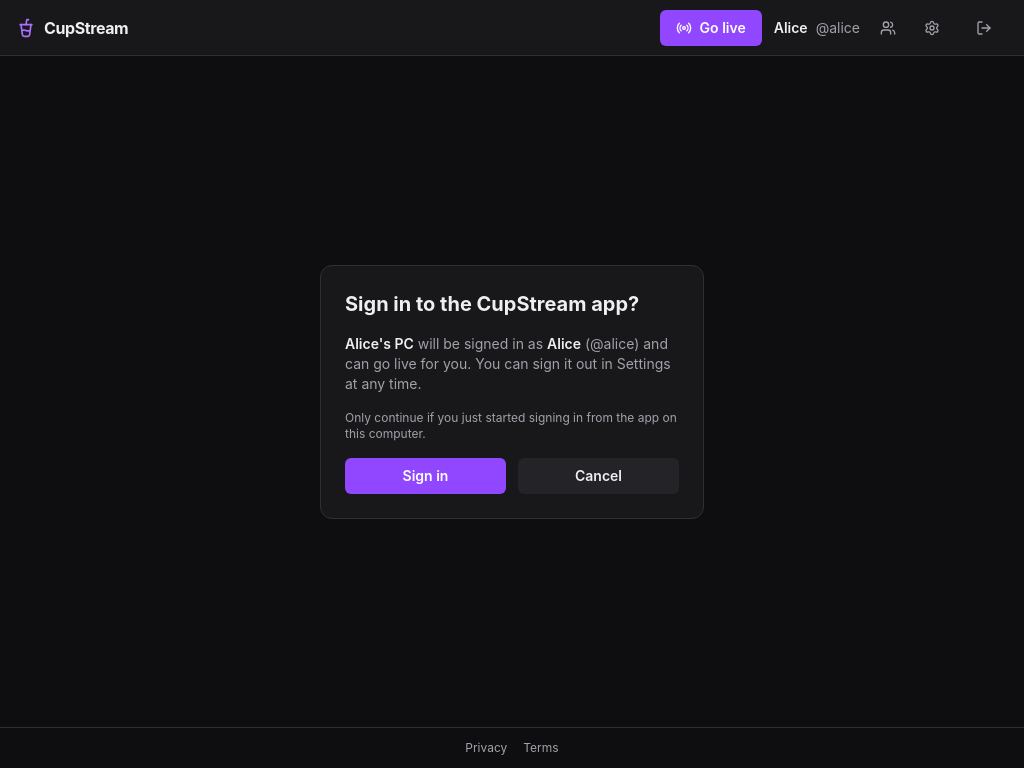
Scenario: approving sends the browser back to the app
Expected: the text "Alice's PC" is shown, [345,334,414,352]
Click the button "Sign in": (426, 476) [345,458,506,494]
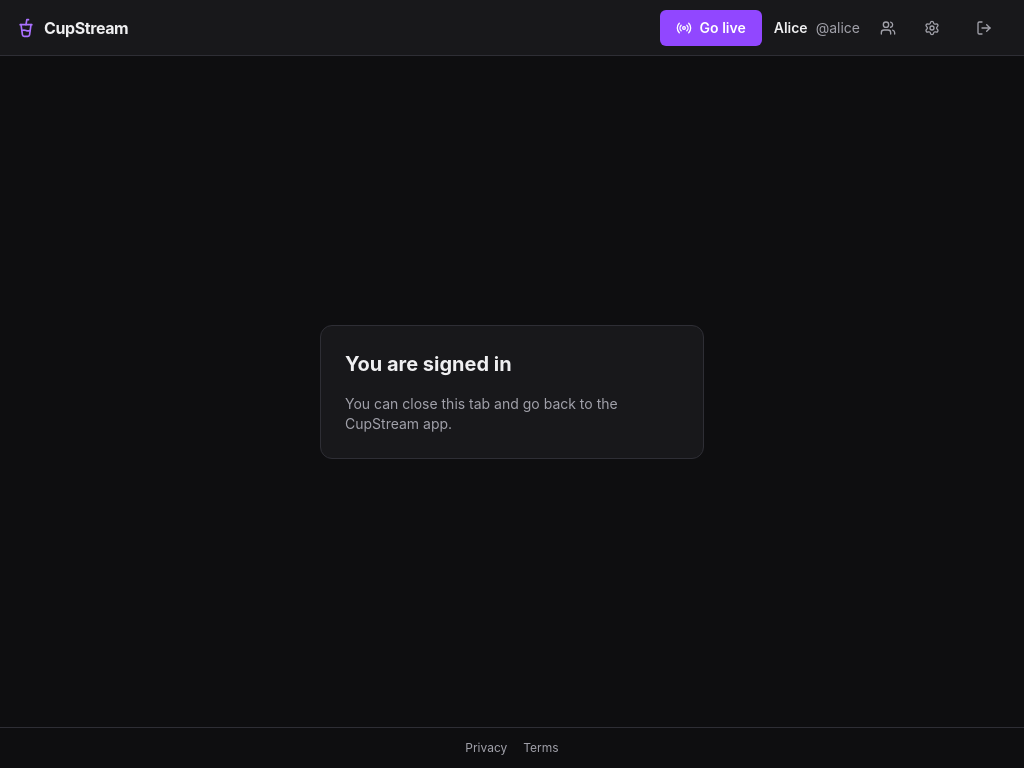
Result: the heading "You are signed in" is shown at [345,352,512,376]
